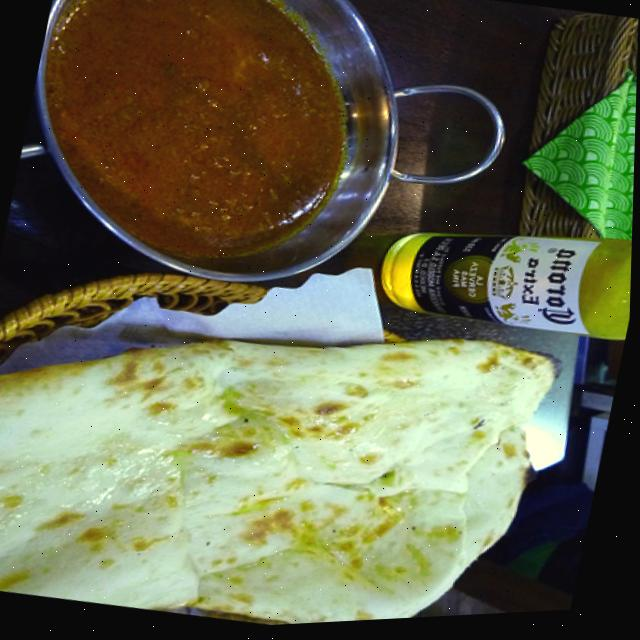牛肉菜式: (0, 0, 437, 324)
